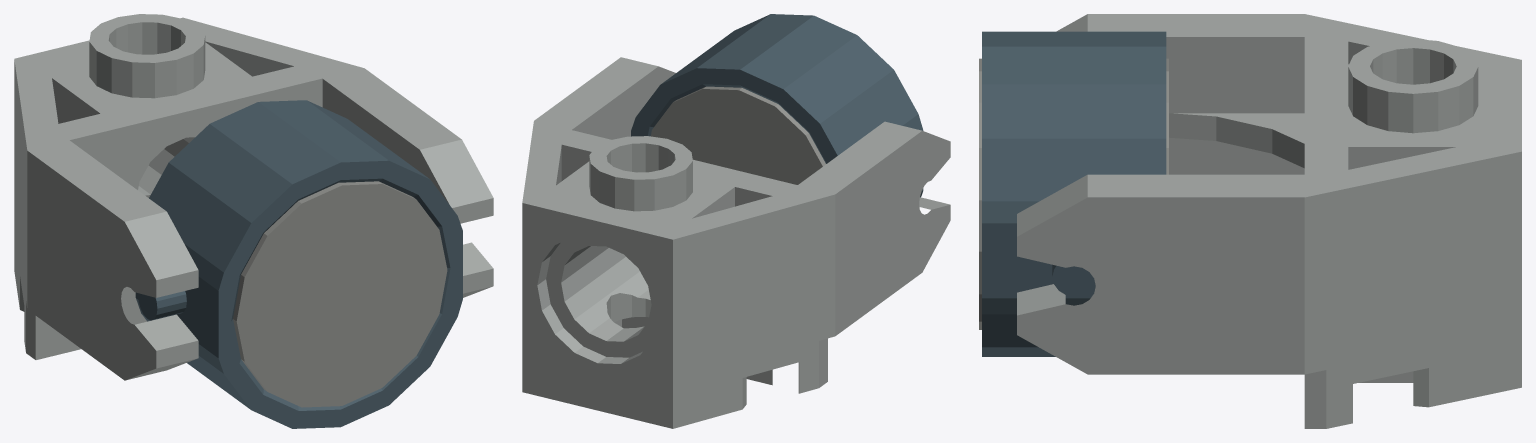
3 renders of one model, left to right at view 1: azimuth 30°, elevation 25°; view 2: azimuth 150°, elevation 25°; view 3: azimuth 270°, elevation 25°, orthographic. The views are drawn at different scales.
Parts seen in each view (by area): view 1: world; view 2: world; view 3: world.
Part boxes in pixels (box(x1,y1,x2,y2)): world: box(14, 14, 493, 428); world: box(522, 14, 950, 428); world: box(979, 14, 1521, 428).
Bounding box in the file's own units: 0.016 × 0.012 × 0.02.
